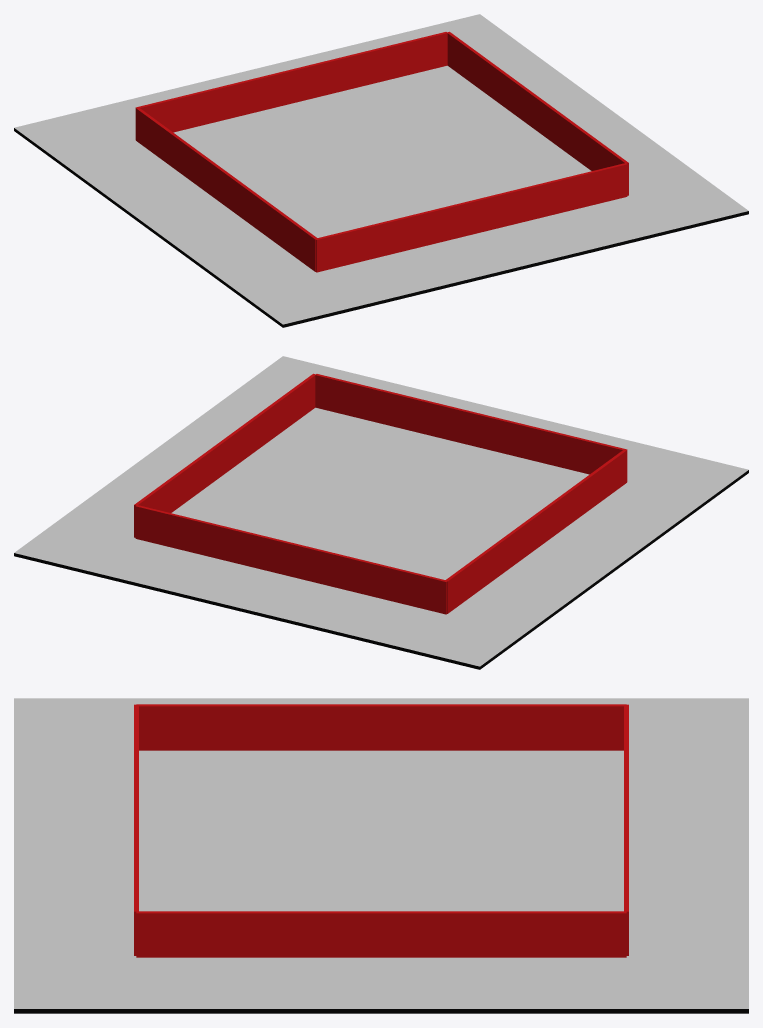
Rendered from map.obj.
3 views of the same model, one above another, from view 1: azimuth 30°, elevation 25°; view 2: azimuth 150°, elevation 25°; view 3: azimuth 270°, elevation 25° (orthographic). The views are drawn at different scales.
Visible parts, largest first — view 1: Cube.001, Wall.000, Wall.003, Wall.001, Wall.002; view 2: Cube.001, Wall.003, Wall.000, Wall.001, Wall.002; view 3: Cube.001, Wall.002, Wall.001, Wall.000, Wall.003.
Boxes of the visible parts, <box> form: Cube.001: <box>14,14,748,327</box>; Wall.000: <box>315,163,627,272</box>; Wall.003: <box>135,32,447,139</box>; Wall.001: <box>136,108,316,271</box>; Wall.002: <box>447,31,628,195</box>; Cube.001: <box>14,356,748,669</box>; Wall.003: <box>135,505,447,614</box>; Wall.000: <box>315,374,627,481</box>; Wall.001: <box>445,450,626,613</box>; Wall.002: <box>134,373,315,537</box>; Cube.001: <box>14,698,748,1013</box>; Wall.002: <box>136,911,626,957</box>; Wall.001: <box>136,704,626,750</box>; Wall.000: <box>134,704,138,955</box>; Wall.003: <box>624,704,628,955</box>.
Bounding box in the file's own units: 30 × 2.26 × 30.
